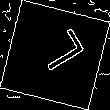L_SW: (25, 29, 85, 81)
